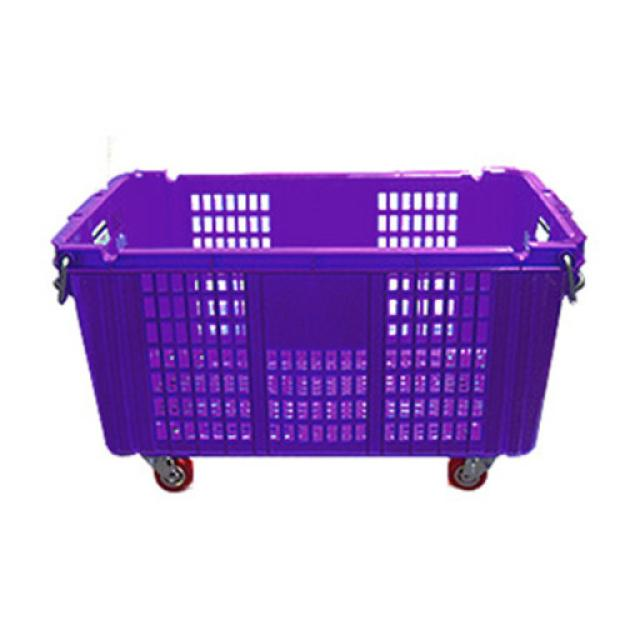basket: (55, 167, 587, 491)
